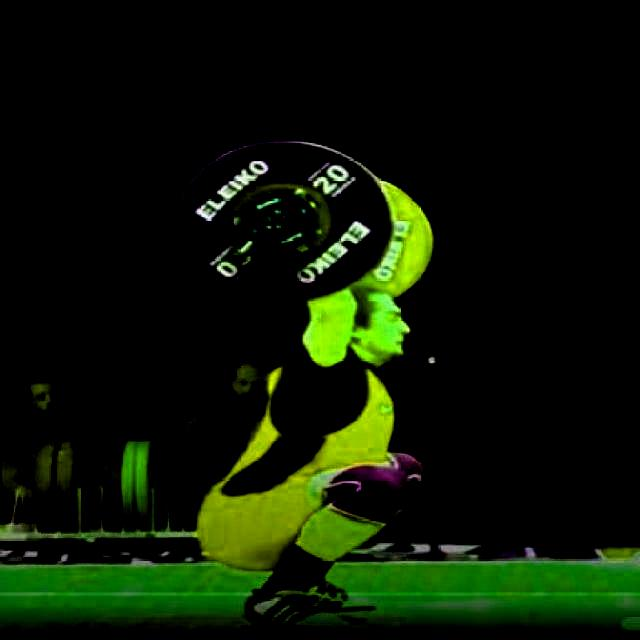barbell: (171, 131, 395, 305)
